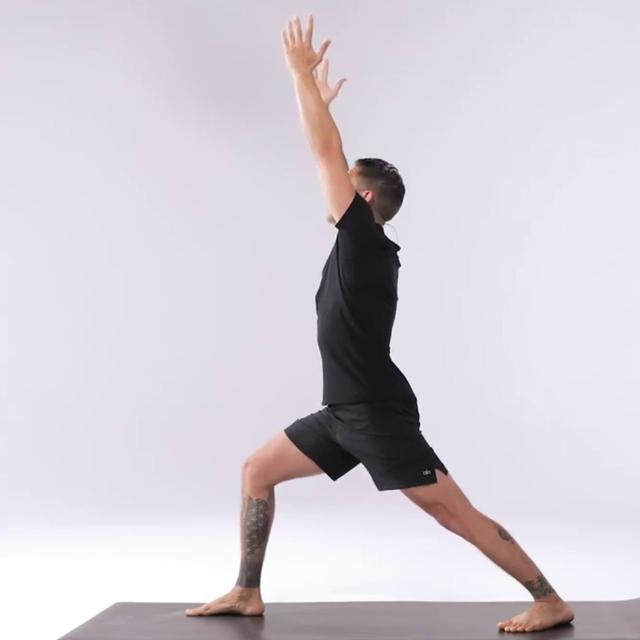Warrior_I: (181, 10, 582, 640)
